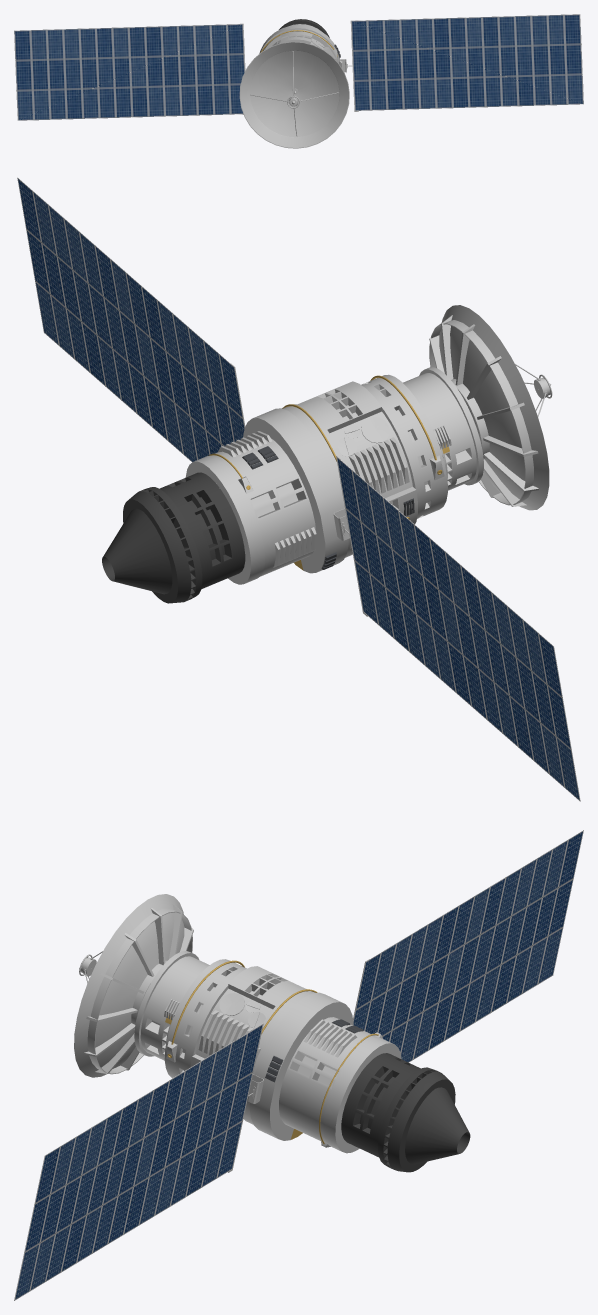
Rendered from satellite-optimized.glb.
3 views of the same model, one above another, from view 1: azimuth 30°, elevation 25°; view 2: azimuth 150°, elevation 25°; view 3: azimuth 270°, elevation 25° (orthographic). The views are drawn at different scales.
Size of the model in its own units: 13.08 by 3.6 by 8.46.
5 materials, 1 textured.
